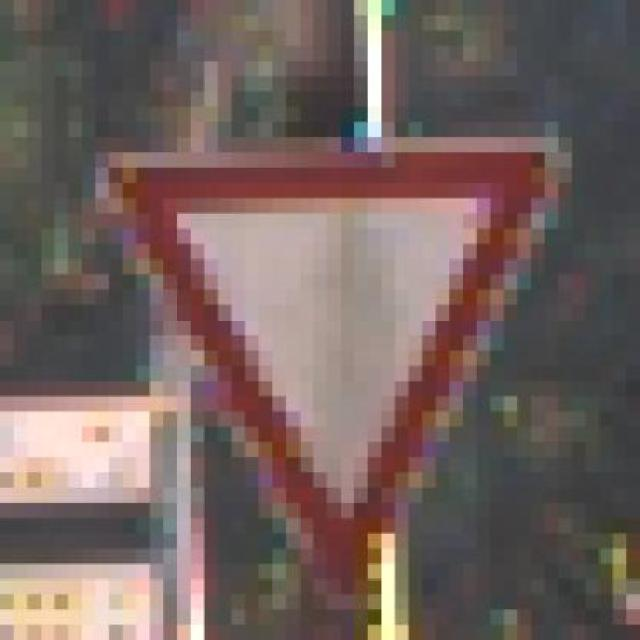Give Way: (69, 122, 613, 595)
